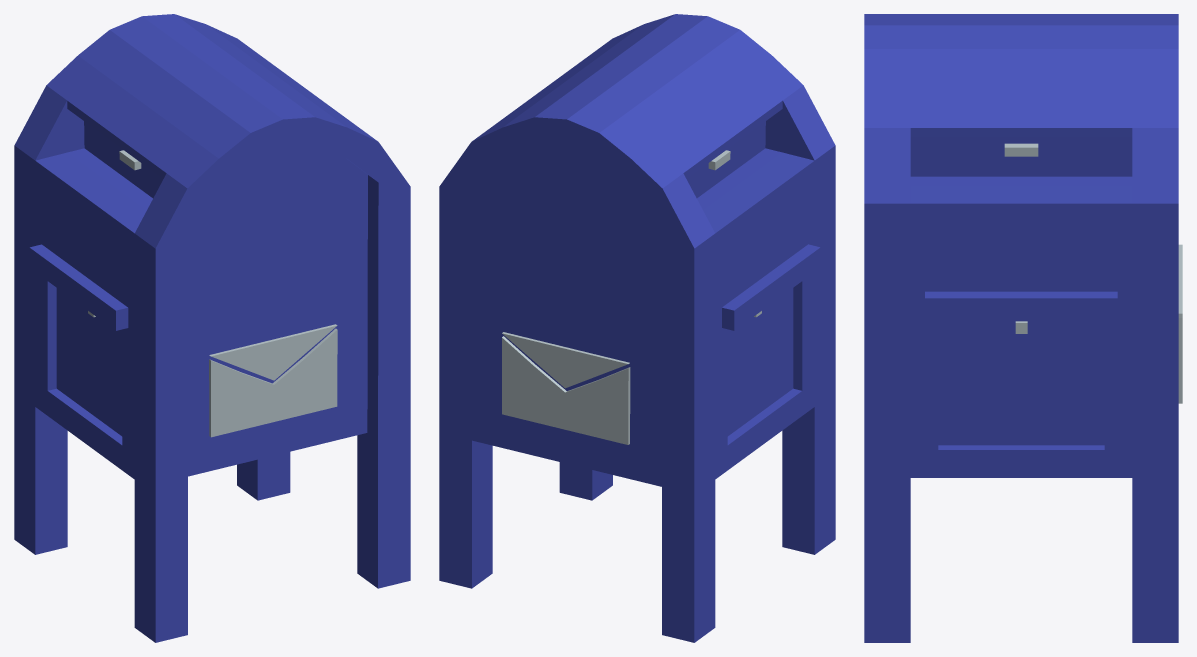
File: City_Mailbox.fbx
3 renders of one model, left to right at view 1: azimuth 30°, elevation 25°; view 2: azimuth 150°, elevation 25°; view 3: azimuth 270°, elevation 25°, orthographic. The views are drawn at different scales.
Visible parts, largest first — view 1: Mailbox; view 2: Mailbox; view 3: Mailbox.
Part boxes in pixels (x1,y1,x2,y2): Mailbox: (14,14,410,642); Mailbox: (439,14,835,642); Mailbox: (864,14,1182,642).
Size of the model in its own units: 0.5655 by 0.9511 by 0.5001.
